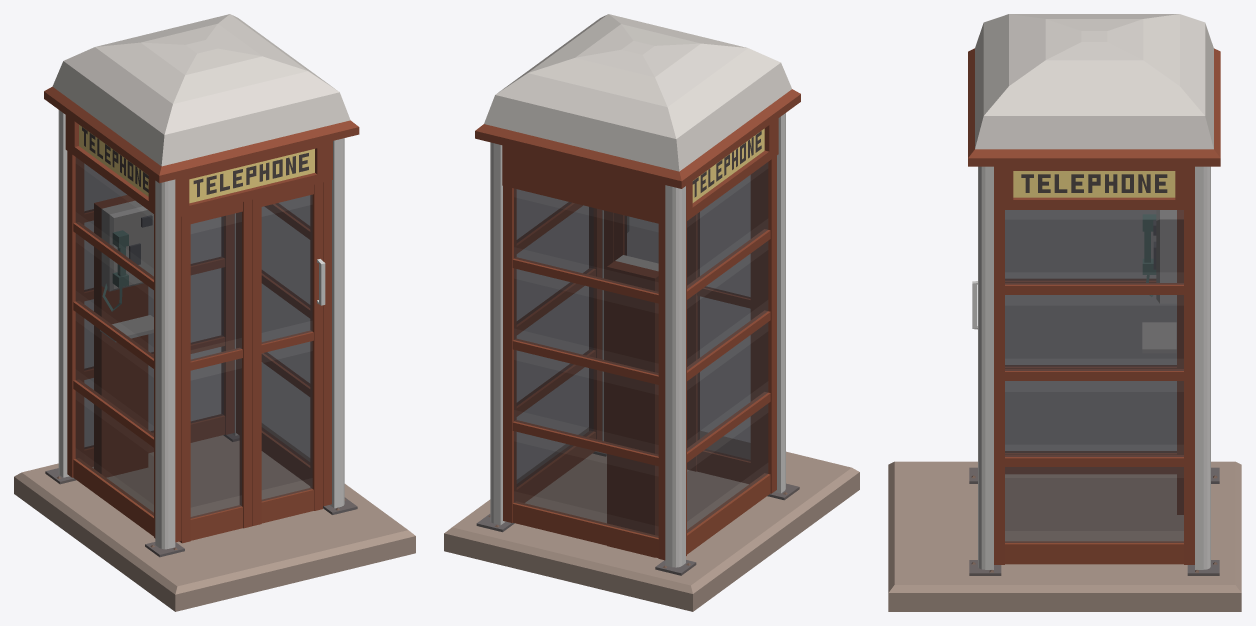
File: pay-phone-booth-b8a1db.glb
3 views of the same model, side by side, from view 1: azimuth 30°, elevation 25°; view 2: azimuth 150°, elevation 25°; view 3: azimuth 270°, elevation 25° (orthographic). The views are drawn at different scales.
Parts seen in each view (by area): view 1: booth, booth-glass, door-leaf-glass, door-fold-leaf-glass, door-leaf, door-fold-leaf, shelf-board; view 2: booth, booth-glass, door-leaf-glass, door-leaf, door-fold-leaf-glass, door-fold-leaf; view 3: booth, booth-glass, shelf-board.
Part boxes in pixels (x1,y1,x2,y2): booth: (14, 14, 415, 611); booth-glass: (75, 157, 309, 515); door-leaf-glass: (190, 212, 241, 518); door-fold-leaf-glass: (261, 195, 312, 501); door-leaf: (179, 199, 252, 543); door-fold-leaf: (252, 182, 325, 525); shelf-board: (100, 315, 153, 341); booth: (444, 14, 859, 611); booth-glass: (514, 162, 768, 537); door-leaf-glass: (698, 175, 750, 460); door-leaf: (687, 169, 759, 483); door-fold-leaf-glass: (625, 216, 658, 262); door-fold-leaf: (613, 213, 628, 261); booth: (888, 14, 1241, 611); booth-glass: (1005, 210, 1183, 542); shelf-board: (1142, 322, 1176, 353).
Size of the model in its own units: 1.24 by 2.3 by 1.44.
